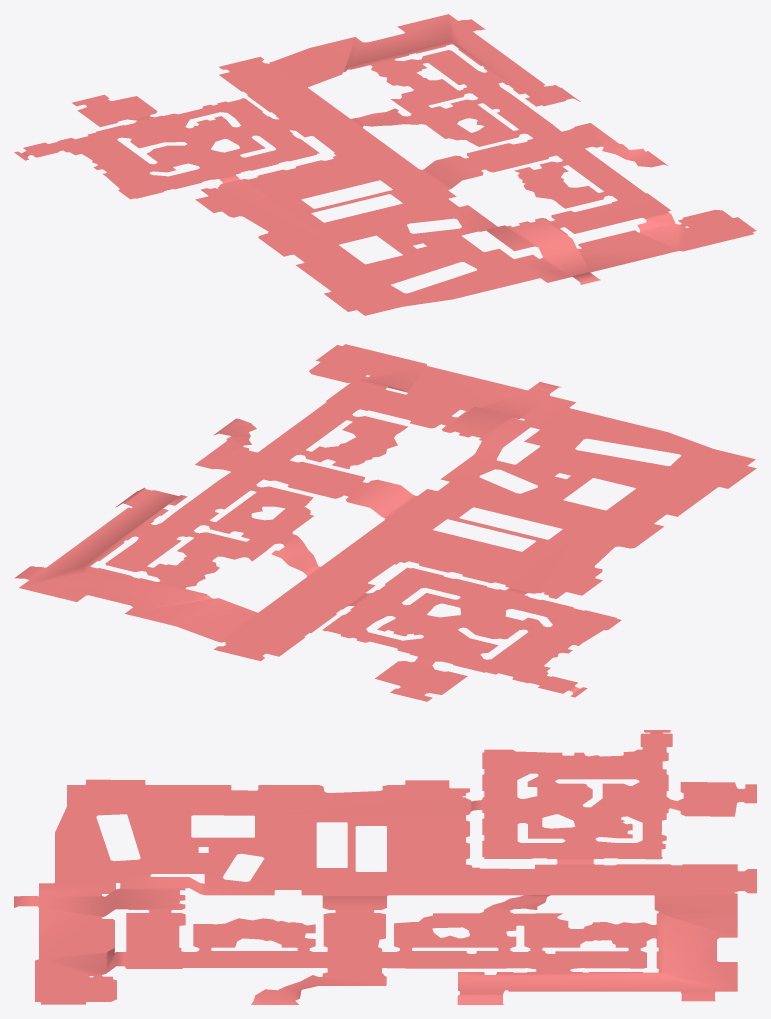
The model's file is Prohibited_SCHOOL.fbx.
3 renders of one model, top to bottom at view 1: azimuth 30°, elevation 25°; view 2: azimuth 150°, elevation 25°; view 3: azimuth 270°, elevation 25°, orthographic. The views are drawn at different scales.
Visible parts, largest first — view 1: School; view 2: School; view 3: School.
Boxes of the visible parts, x1=… form: School: x1=14, y1=14, x2=756, y2=315; School: x1=14, y1=344, x2=756, y2=701; School: x1=14, y1=730, x2=756, y2=1004.
Bounding box in the file's own units: 64.9 × 0.8861 × 74.08.
